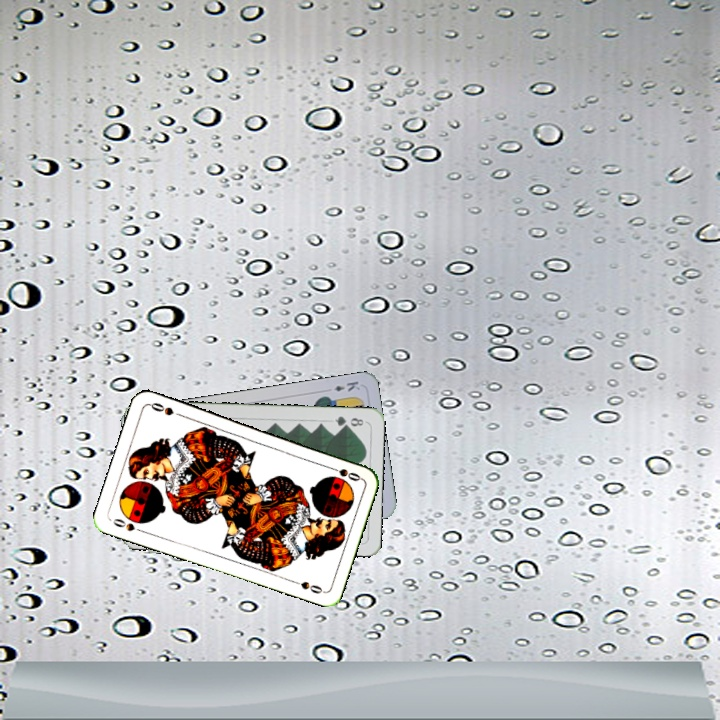EK: (330, 377, 363, 394)
G8: (331, 412, 366, 430)
SO: (324, 462, 363, 484), (109, 514, 147, 535)
